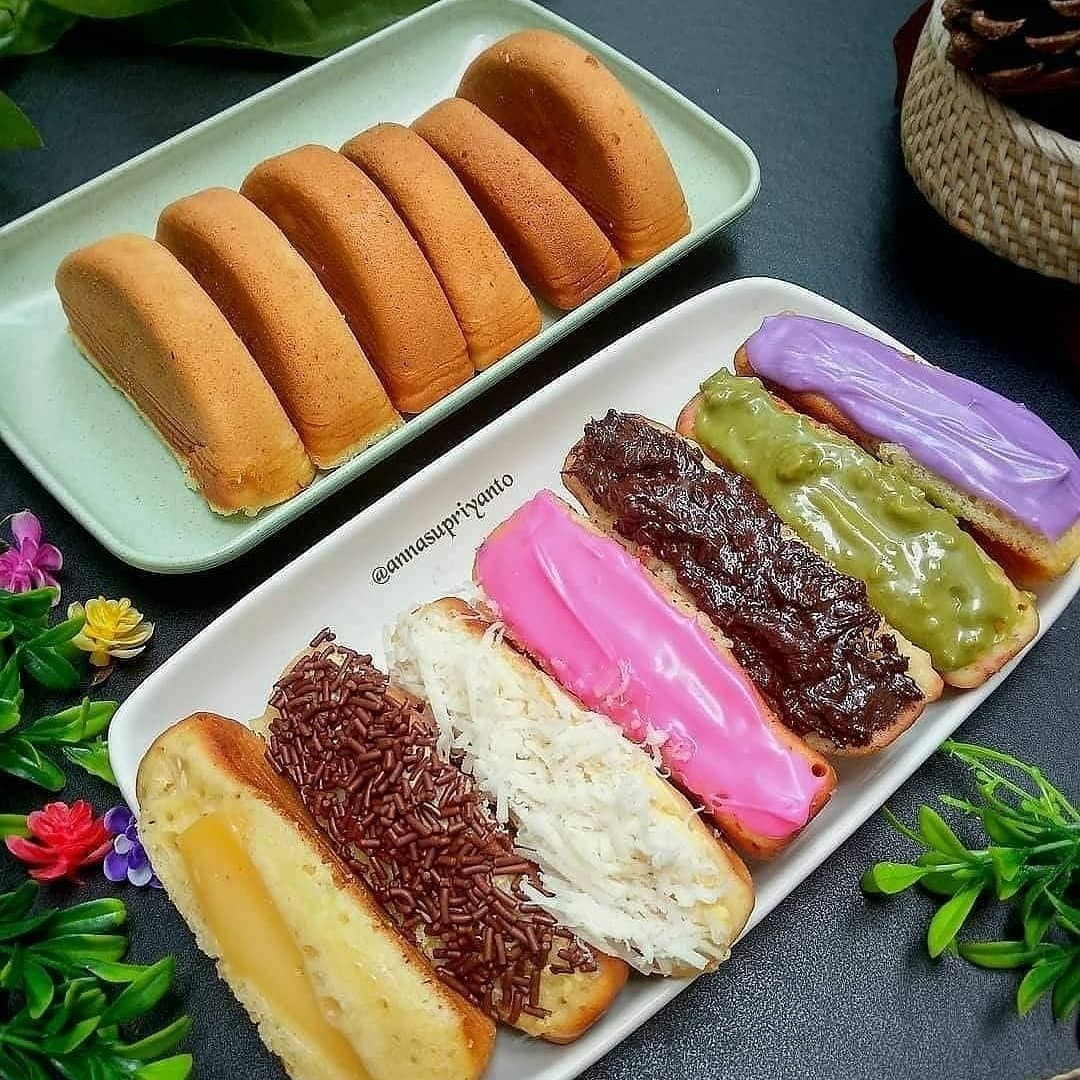pukis: (27, 239, 283, 527)
